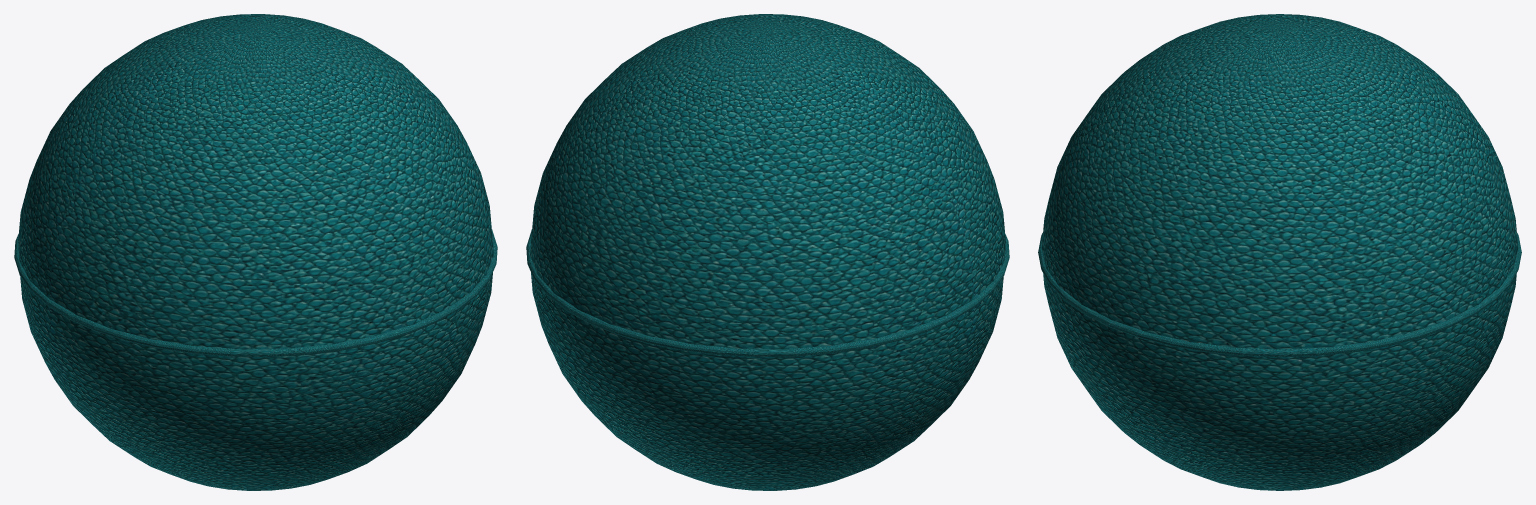
File: ball.glb
The picture shows the model from 3 angles, left to right: view 1: azimuth 30°, elevation 25°; view 2: azimuth 150°, elevation 25°; view 3: azimuth 270°, elevation 25°; orthographic projection.
Parts seen in each view (by area): view 1: Ball_Render, Ball_Equator_Seam; view 2: Ball_Render, Ball_Equator_Seam; view 3: Ball_Render, Ball_Equator_Seam.
Part boxes in pixels (bbox=[...]): Ball_Render: bbox=[18, 14, 493, 490]; Ball_Equator_Seam: bbox=[14, 229, 497, 356]; Ball_Render: bbox=[530, 14, 1005, 490]; Ball_Equator_Seam: bbox=[526, 229, 1009, 356]; Ball_Render: bbox=[1041, 14, 1518, 490]; Ball_Equator_Seam: bbox=[1038, 233, 1521, 357].
Bounding box in the file's own units: 0.446 × 0.44 × 0.446.
Materials: 2 (2 with a texture image).
